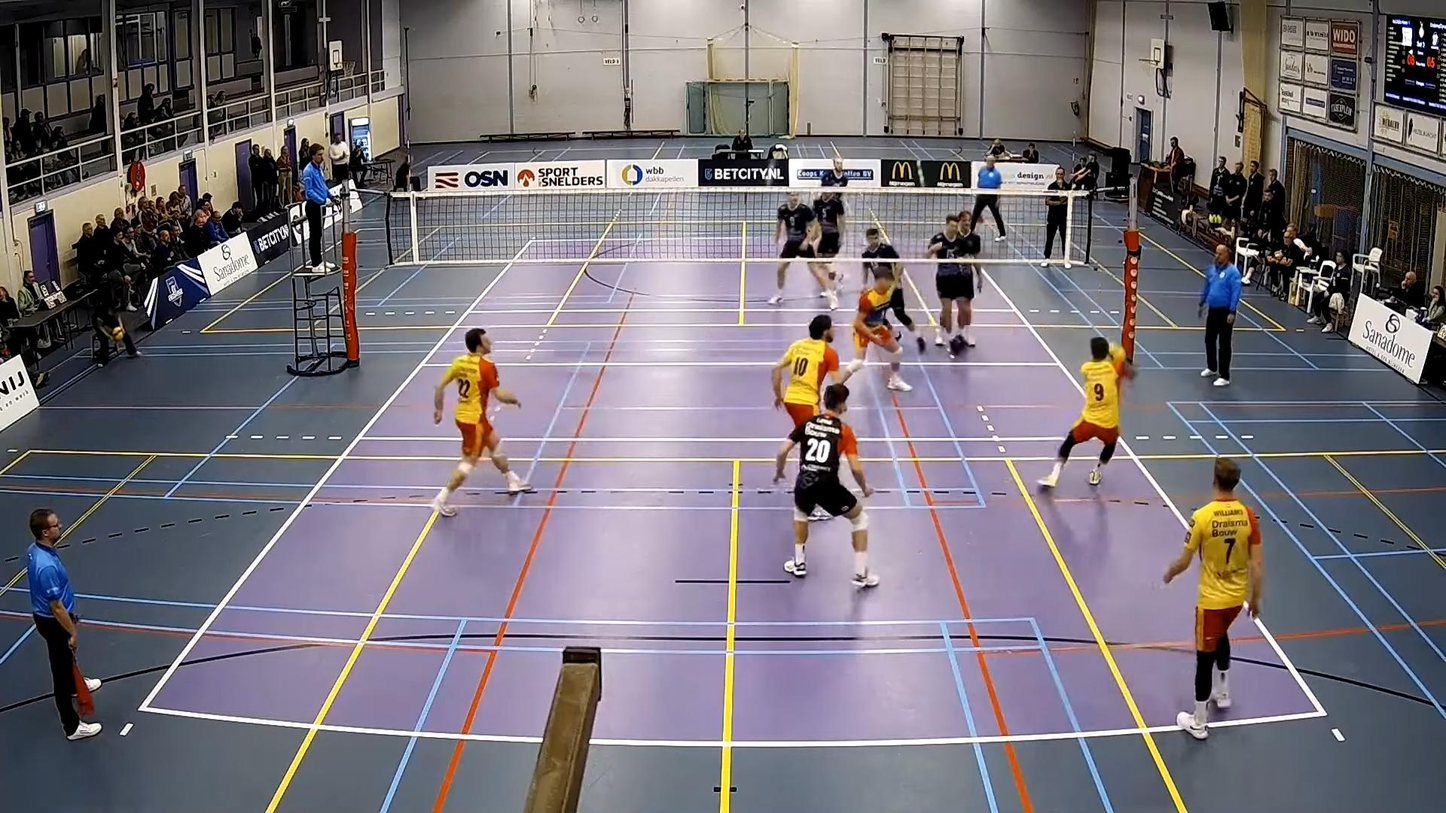Player: (1164, 458, 1262, 738), (775, 384, 878, 587), (432, 328, 529, 516), (1039, 336, 1132, 488), (772, 315, 862, 428), (773, 315, 861, 428), (861, 227, 926, 352), (928, 215, 980, 355), (853, 266, 911, 391), (768, 192, 820, 305), (813, 192, 845, 294), (819, 157, 848, 187)
Receive: (1035, 333, 1121, 492)
